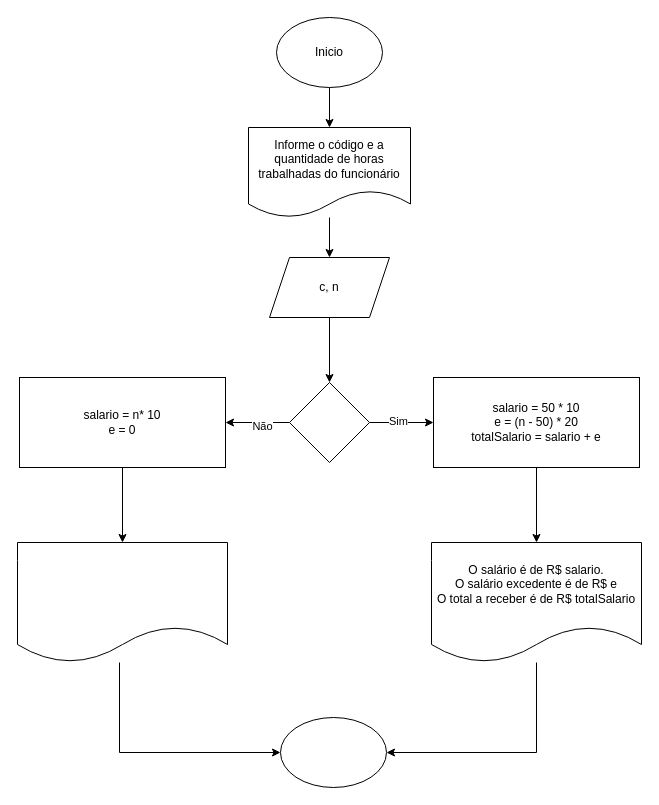
The diagram is 659 pixels wide and 805 high, and some of its shapes have lost their labels. The shapes that lost their labels are listed below. From the top down, each one's centre as x and y in pixels, then its label:
the point at 329,422: n> 50
the point at 122,602: O salário é de R$ salario. Não há salario excedente
the point at 333,752: Fim
